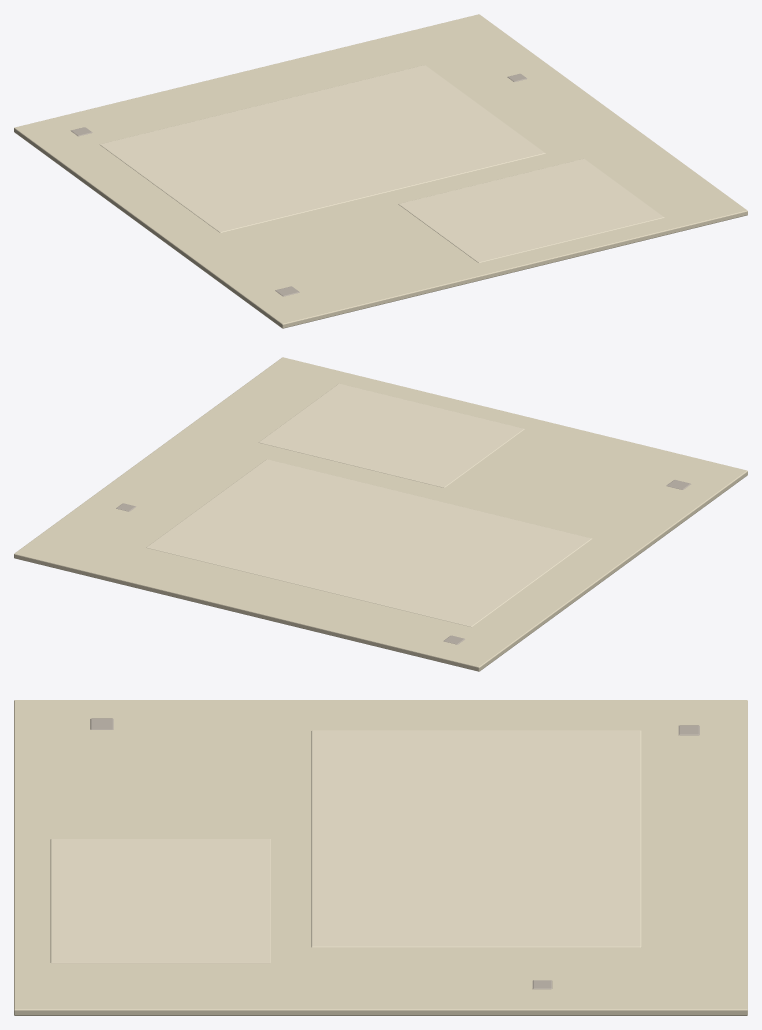
File: road_sand.glb
The picture shows the model from 3 angles, top to bottom: view 1: azimuth 30°, elevation 25°; view 2: azimuth 150°, elevation 25°; view 3: azimuth 270°, elevation 25°; orthographic projection. The views are drawn at different scales.
Parts seen in each view (by area): view 1: road_sand_field, road_sand_tone_a, road_sand_tone_b; view 2: road_sand_field, road_sand_tone_a, road_sand_tone_b; view 3: road_sand_field, road_sand_tone_a, road_sand_tone_b.
Boxes of the visible parts, bbox=[...] form: road_sand_field: bbox=[14, 14, 747, 328]; road_sand_tone_a: bbox=[99, 65, 545, 232]; road_sand_tone_b: bbox=[398, 158, 664, 262]; road_sand_field: bbox=[14, 357, 747, 671]; road_sand_tone_a: bbox=[146, 459, 591, 627]; road_sand_tone_b: bbox=[258, 383, 524, 487]; road_sand_field: bbox=[14, 700, 747, 1015]; road_sand_tone_a: bbox=[311, 730, 641, 947]; road_sand_tone_b: bbox=[50, 839, 270, 963].
Size of the model in its own units: 4 by 0.044 by 4.
